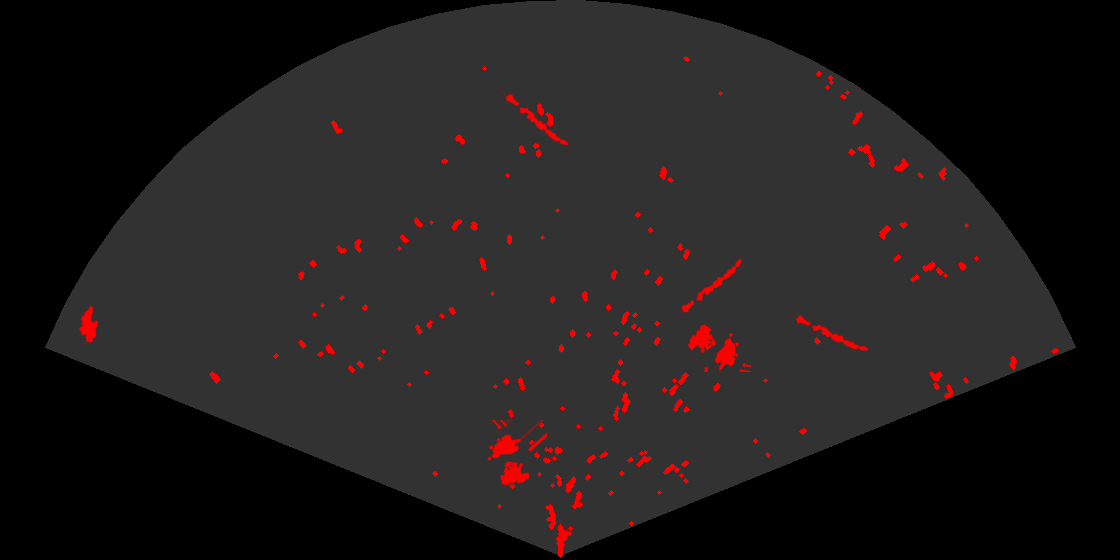AUV: (77, 304, 100, 345)
cage: (486, 420, 547, 487), (686, 323, 751, 372)
chain: (496, 88, 570, 147), (676, 257, 744, 319), (788, 312, 870, 353)
